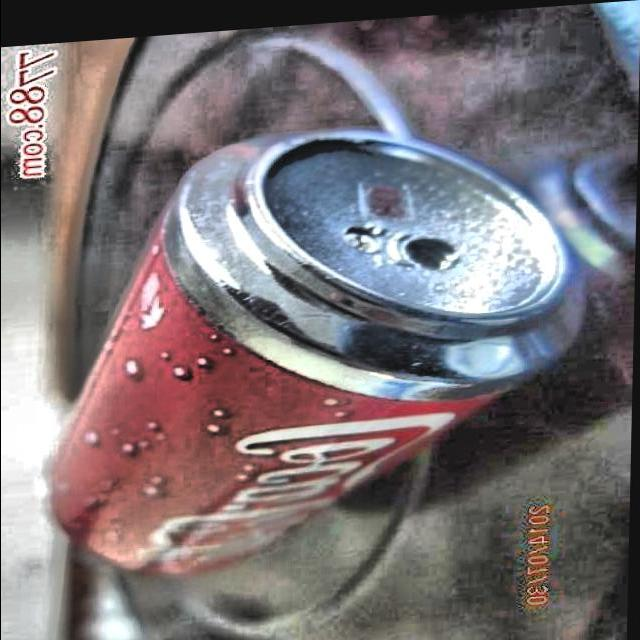Aluminum Can: (32, 101, 592, 594)
